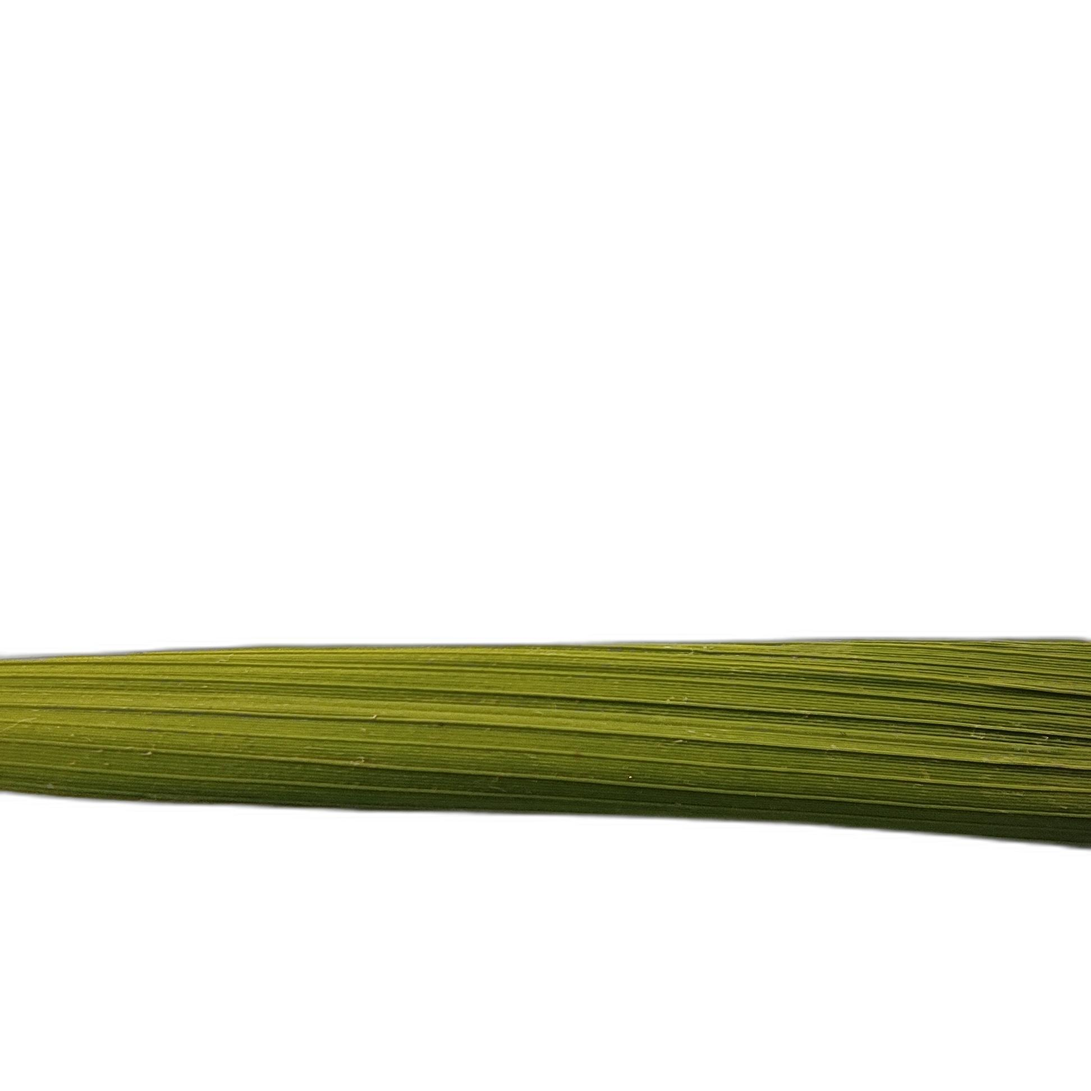Healthy: (0, 642, 1090, 844)
